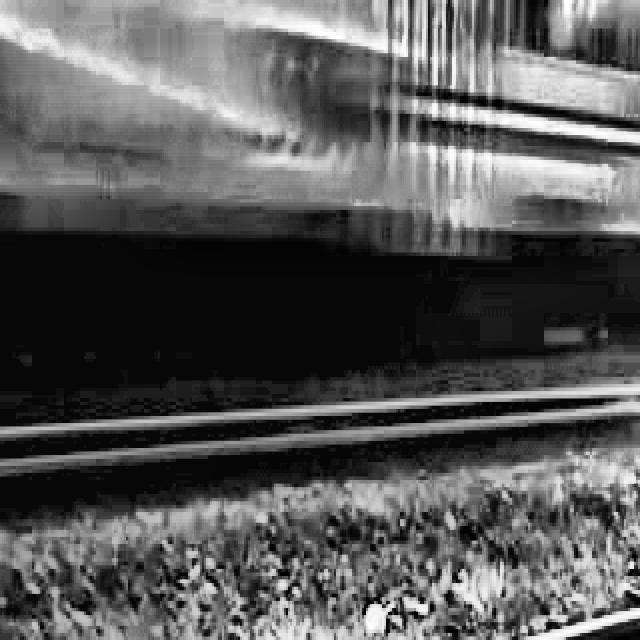Kereta: (0, 0, 406, 235), (382, 0, 640, 288)
